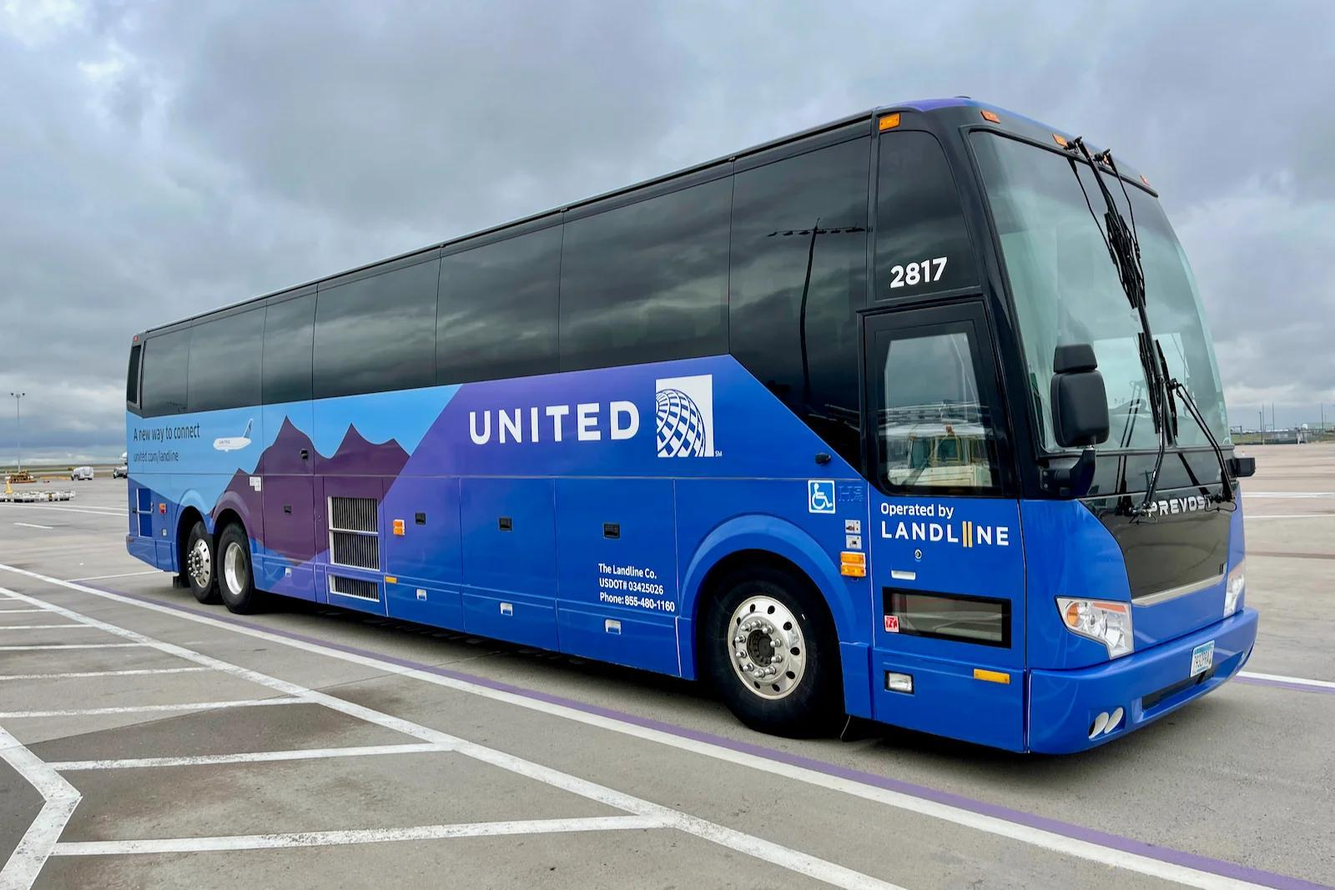Bus: (120, 94, 1262, 761)
